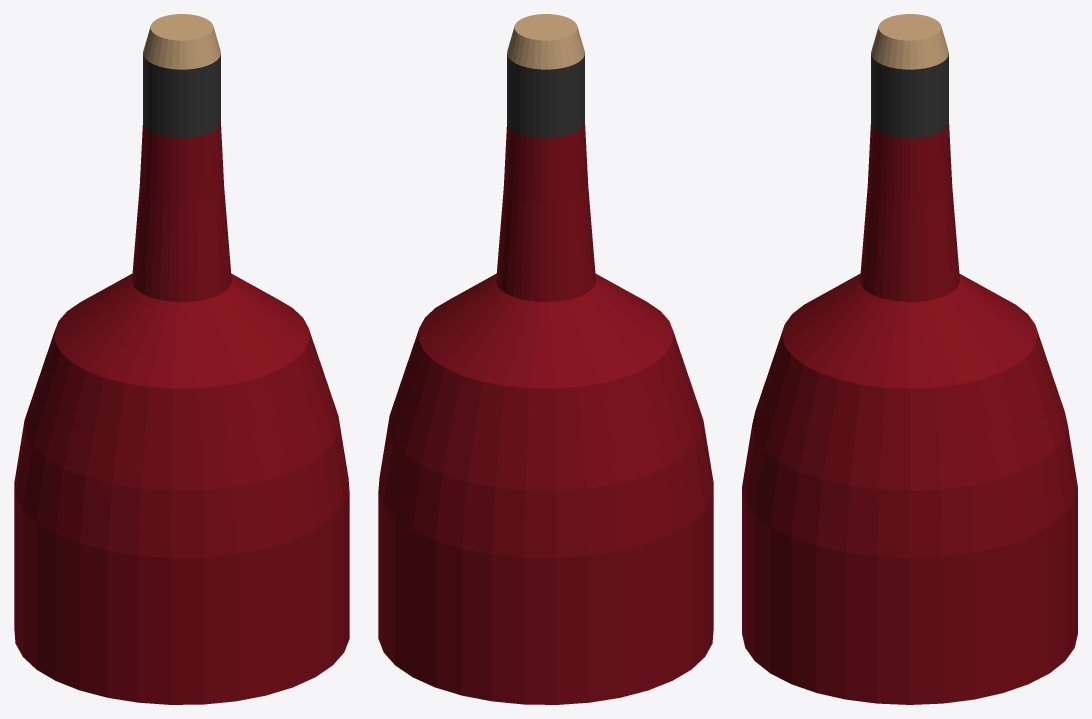
The model's file is (Multi)WineBottle4WIP.fbx.
The picture shows the model from 3 angles, left to right: view 1: azimuth 30°, elevation 25°; view 2: azimuth 150°, elevation 25°; view 3: azimuth 270°, elevation 25°; orthographic projection.
Visible parts, largest first — view 1: Cylinder; view 2: Cylinder; view 3: Cylinder.
Boxes of the visible parts, box(x1,y1,x2,y2) form: Cylinder: box(14, 14, 349, 704); Cylinder: box(378, 14, 713, 704); Cylinder: box(742, 14, 1077, 704).
Size of the model in its own units: 20.36 by 41.1 by 20.36.
